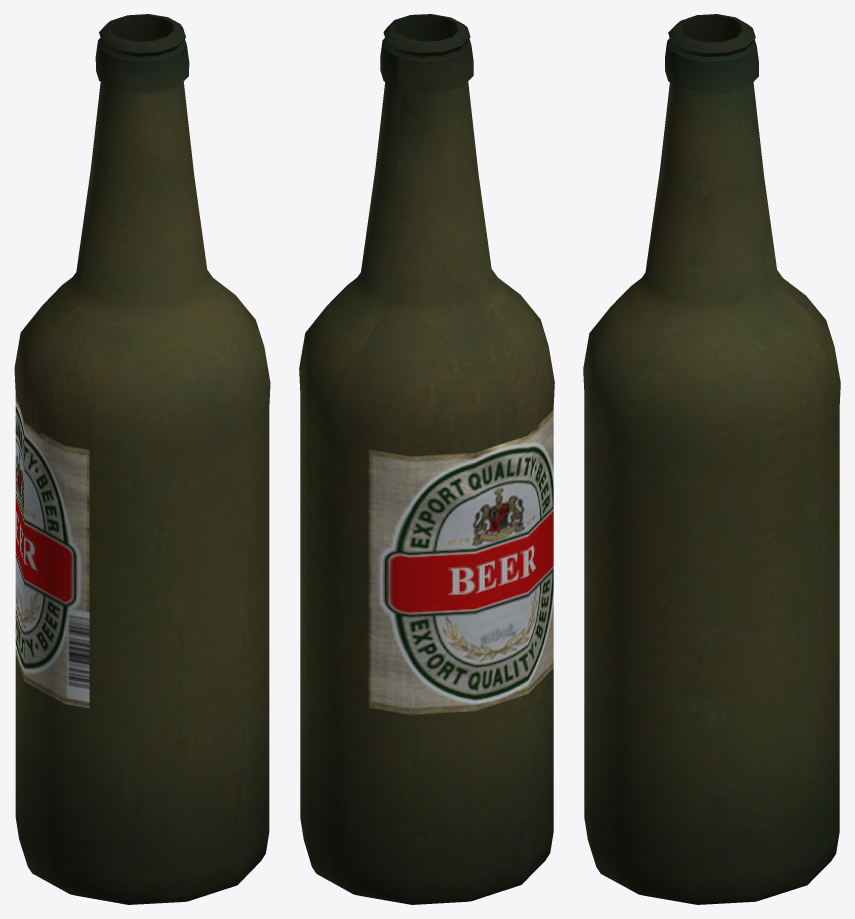
The model's file is Beer.FBX.
3 views of the same model, side by side, from view 1: azimuth 30°, elevation 25°; view 2: azimuth 150°, elevation 25°; view 3: azimuth 270°, elevation 25° (orthographic).
Parts seen in each view (by area): view 1: Beer; view 2: Beer; view 3: Beer.
Boxes of the visible parts, x1,y1,x2,y2 form: Beer: [14, 14, 270, 904]; Beer: [299, 14, 554, 904]; Beer: [583, 14, 840, 904].
Size of the model in its own units: 15.03 by 53.92 by 15.17.
1 material, 1 textured.
